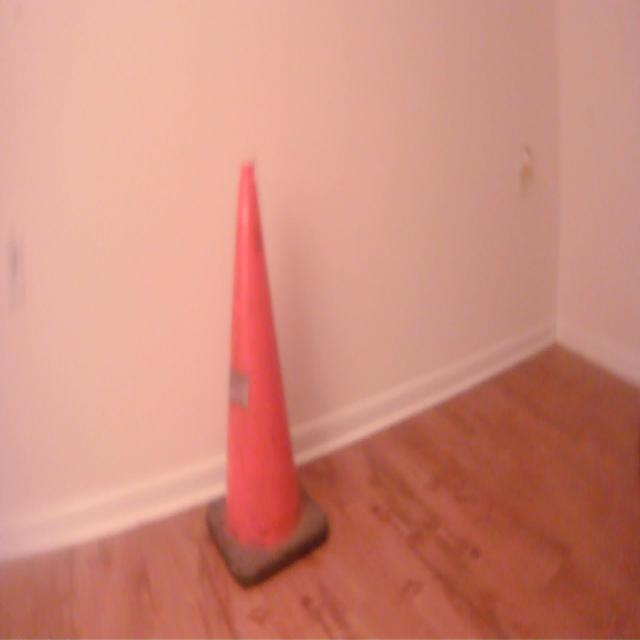traffic cone: (204, 156, 332, 595)
